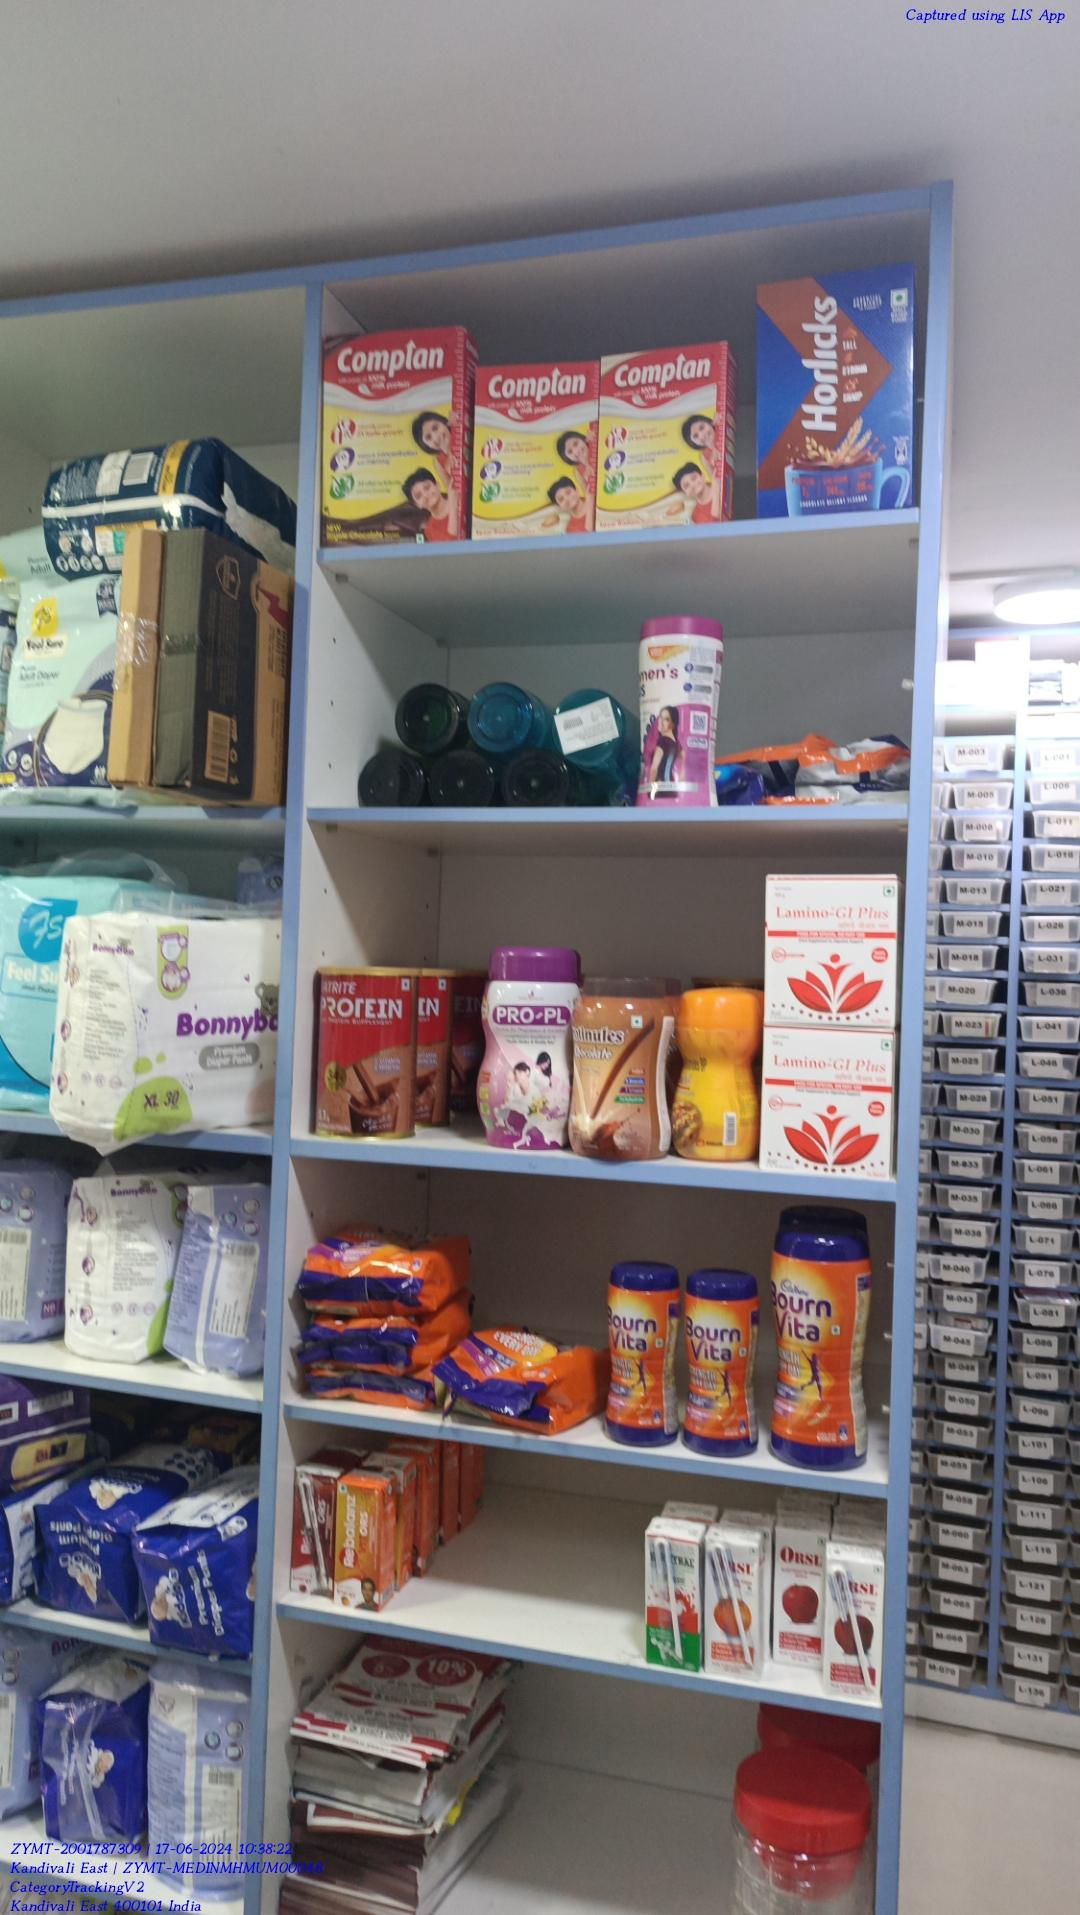BOURN_VITA_1_KG_JAR: (770, 1230, 858, 1469)
BOURN_VITA_500_G_JAR: (683, 1280, 751, 1459), (605, 1267, 667, 1445)
COMPLAN_KESAR_BADAM_200_GMS_PACK: (478, 364, 593, 539), (600, 356, 721, 521)
HORLICK_CHOCOLATE_500_G_PACK: (756, 279, 912, 509)
